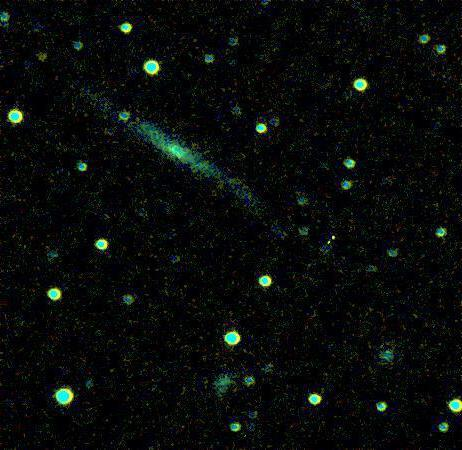star: (27, 43, 57, 73)
